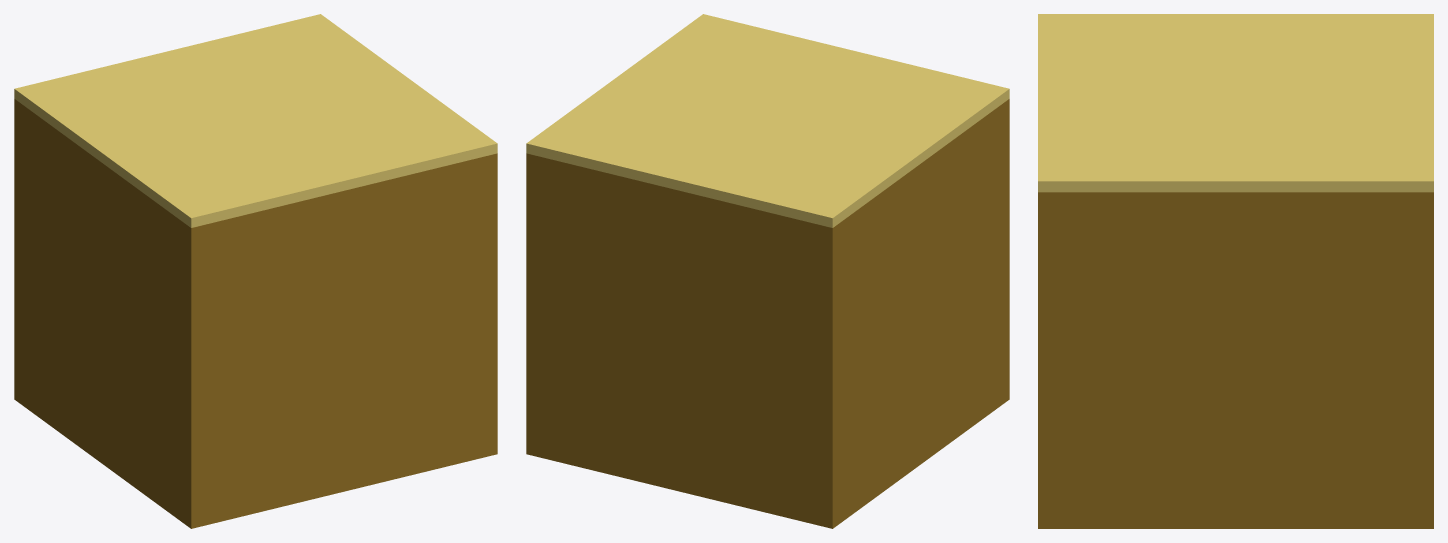
Rendered from ground_path_base.fbx.
The picture shows the model from 3 angles, left to right: view 1: azimuth 30°, elevation 25°; view 2: azimuth 150°, elevation 25°; view 3: azimuth 270°, elevation 25°; orthographic projection. The views are drawn at different scales.
Visible parts, largest first — view 1: ground_path_base; view 2: ground_path_base; view 3: ground_path_base.
Boxes of the visible parts, left/top/right/bottom form: ground_path_base: left=14, top=14, right=497, bottom=528; ground_path_base: left=526, top=14, right=1009, bottom=528; ground_path_base: left=1038, top=14, right=1433, bottom=528.
Size of the model in its own units: 200 by 194 by 200.
